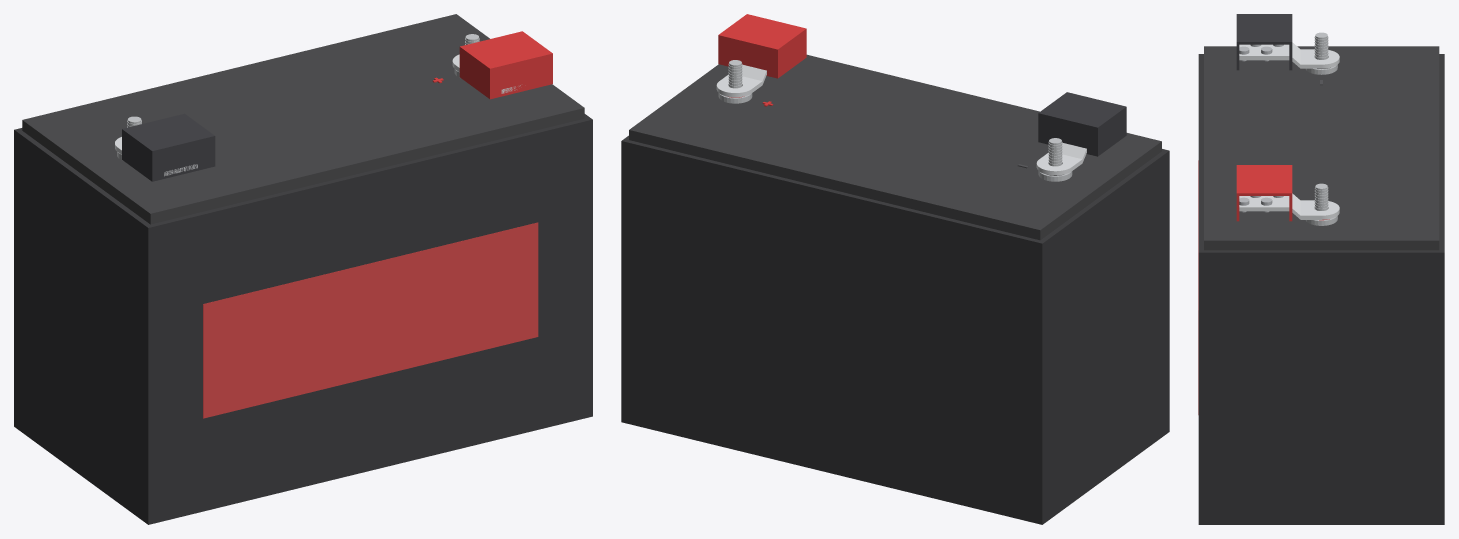
Rendered from odyssey-with-busbars.glb.
3 views of the same model, side by side, from view 1: azimuth 30°, elevation 25°; view 2: azimuth 150°, elevation 25°; view 3: azimuth 270°, elevation 25° (orthographic). The views are drawn at different scales.
Visible parts, largest first — view 1: odyssey-odp-agm31/case, odyssey-odp-agm31/lid, odyssey-odp-agm31/label, blueseas-2340-neg/cover, blueseas-2340-pos/cover; view 2: odyssey-odp-agm31/case, odyssey-odp-agm31/lid, blueseas-2340-neg/cover, blueseas-2340-pos/cover, odyssey-odp-agm31/stud_pos, odyssey-odp-agm31/stud_neg; view 3: odyssey-odp-agm31/case, odyssey-odp-agm31/lid, blueseas-2340-pos/cover, blueseas-2340-neg/cover, blueseas-2340-neg/bus, blueseas-2340-pos/bus, odyssey-odp-agm31/stud_neg, odyssey-odp-agm31/stud_pos, blueseas-2340-neg/tab, blueseas-2340-pos/tab.
Part boxes in pixels (bbox=[...]): odyssey-odp-agm31/case: bbox=[14, 114, 592, 524]; odyssey-odp-agm31/lid: bbox=[22, 14, 584, 224]; odyssey-odp-agm31/label: bbox=[203, 222, 538, 418]; blueseas-2340-neg/cover: bbox=[122, 113, 215, 181]; blueseas-2340-pos/cover: bbox=[459, 31, 552, 99]; odyssey-odp-agm31/case: bbox=[621, 135, 1169, 524]; odyssey-odp-agm31/lid: bbox=[629, 54, 1161, 240]; blueseas-2340-neg/cover: bbox=[1038, 92, 1126, 156]; blueseas-2340-pos/cover: bbox=[718, 14, 806, 78]; odyssey-odp-agm31/stud_pos: bbox=[718, 60, 752, 103]; odyssey-odp-agm31/stud_neg: bbox=[1038, 138, 1072, 181]; odyssey-odp-agm31/case: bbox=[1198, 54, 1444, 524]; odyssey-odp-agm31/lid: bbox=[1204, 46, 1439, 250]; blueseas-2340-pos/cover: bbox=[1236, 165, 1292, 221]; blueseas-2340-neg/cover: bbox=[1236, 14, 1292, 70]; blueseas-2340-neg/bus: bbox=[1239, 42, 1308, 68]; blueseas-2340-pos/bus: bbox=[1239, 193, 1308, 219]; odyssey-odp-agm31/stud_neg: bbox=[1305, 32, 1337, 74]; odyssey-odp-agm31/stud_pos: bbox=[1305, 183, 1337, 225]; blueseas-2340-neg/tab: bbox=[1303, 49, 1339, 68]; blueseas-2340-pos/tab: bbox=[1303, 200, 1339, 219].
Bounding box in the file's own units: 0.3302 × 0.2503 × 0.1728.
